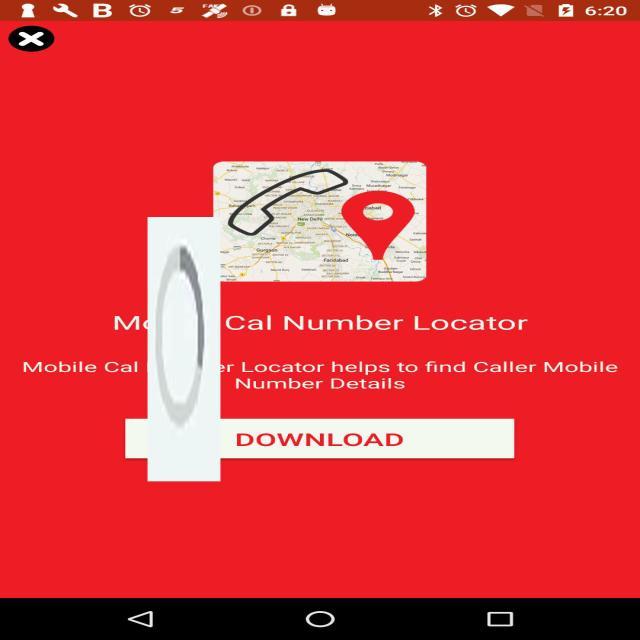misdirection: (147, 217, 220, 481)
